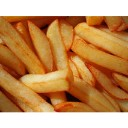frenchfries: (1, 16, 128, 112)
